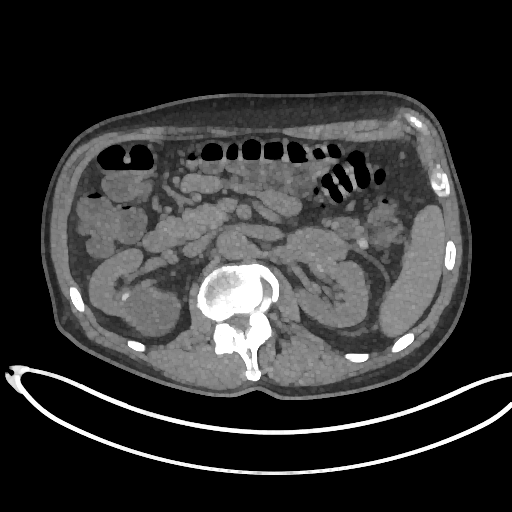Lesion: (281, 227, 349, 267)
